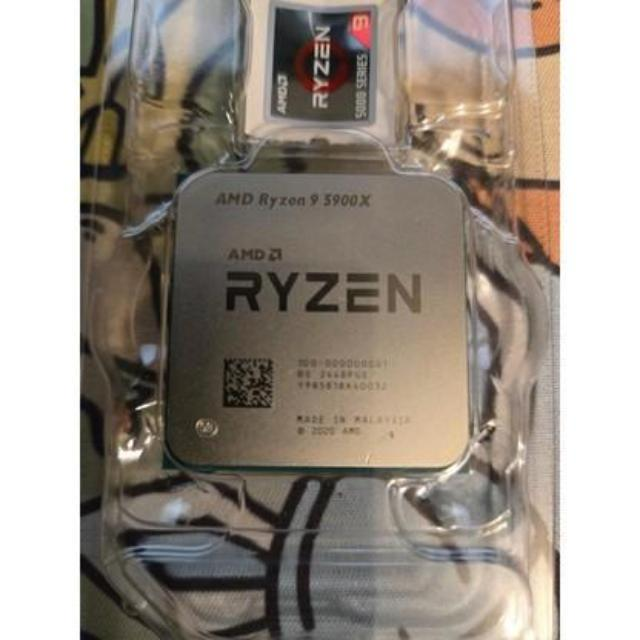CPU: (162, 168, 470, 474)
